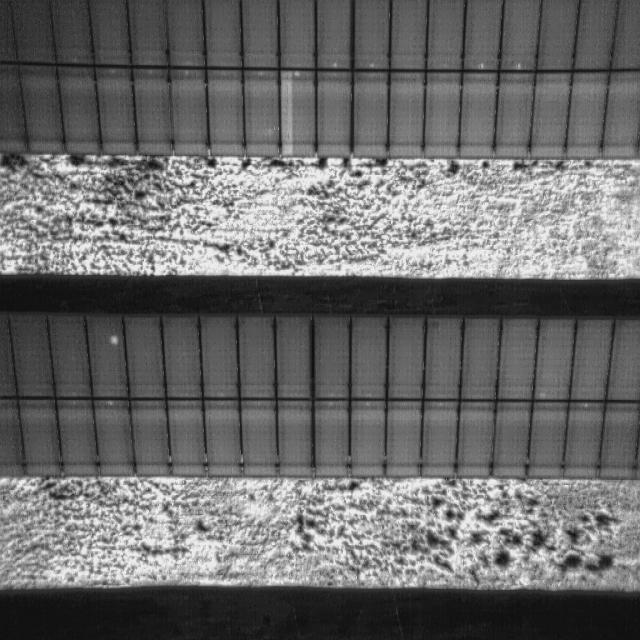diode: (282, 66, 316, 153)
